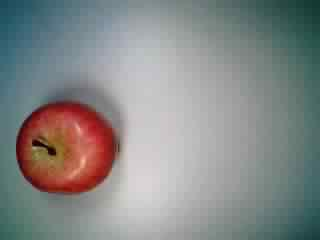apple: (16, 100, 120, 201)
